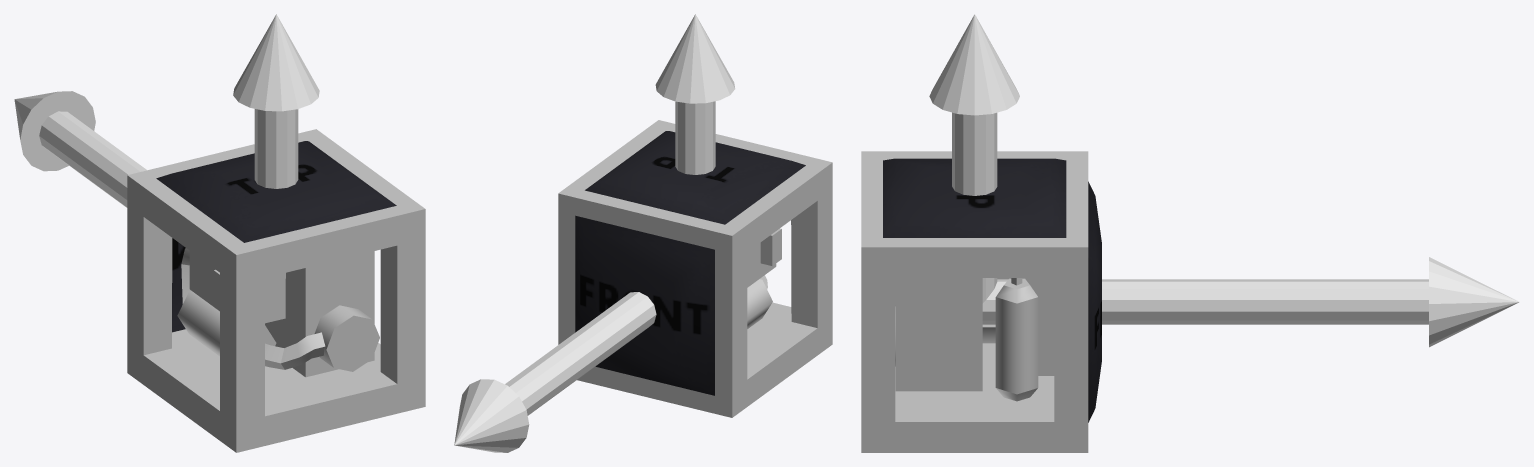
Rendered from obj_gyro_off.dae.
3 renders of one model, left to right at view 1: azimuth 30°, elevation 25°; view 2: azimuth 150°, elevation 25°; view 3: azimuth 270°, elevation 25°, orthographic. The views are drawn at different scales.
Parts seen in each view (by area): view 1: obj_gyro_off; view 2: obj_gyro_off; view 3: obj_gyro_off.
Boxes of the visible parts, box(x1,y1,x2,y2) form: obj_gyro_off: box(14, 14, 425, 452); obj_gyro_off: box(454, 14, 832, 452); obj_gyro_off: box(861, 14, 1519, 452).
Size of the model in its own units: 1 by 2.9 by 1.9.
